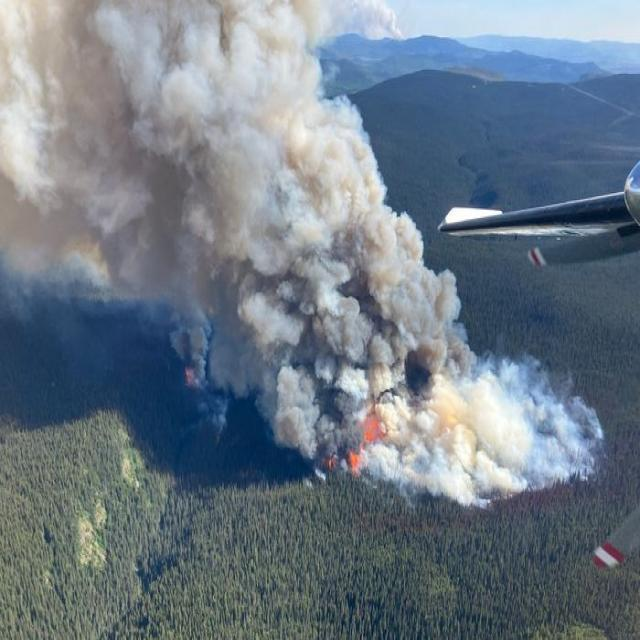Smoke: (0, 0, 606, 507)
